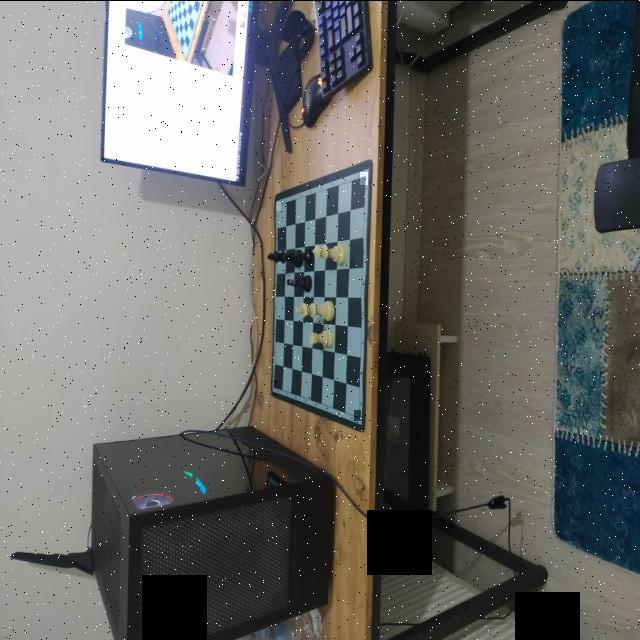chess-table-corners: (360, 171, 368, 184), (354, 409, 361, 420), (272, 379, 278, 390), (276, 201, 281, 210)
